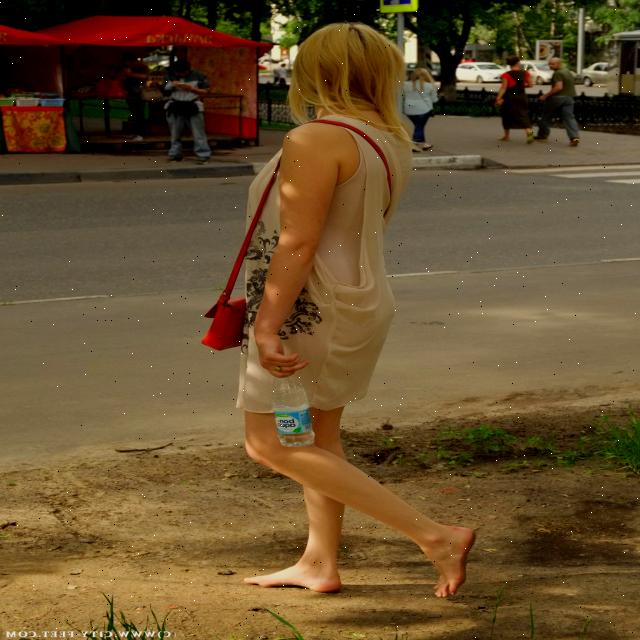No Safety Boots: (432, 526, 477, 598), (244, 566, 342, 592)
